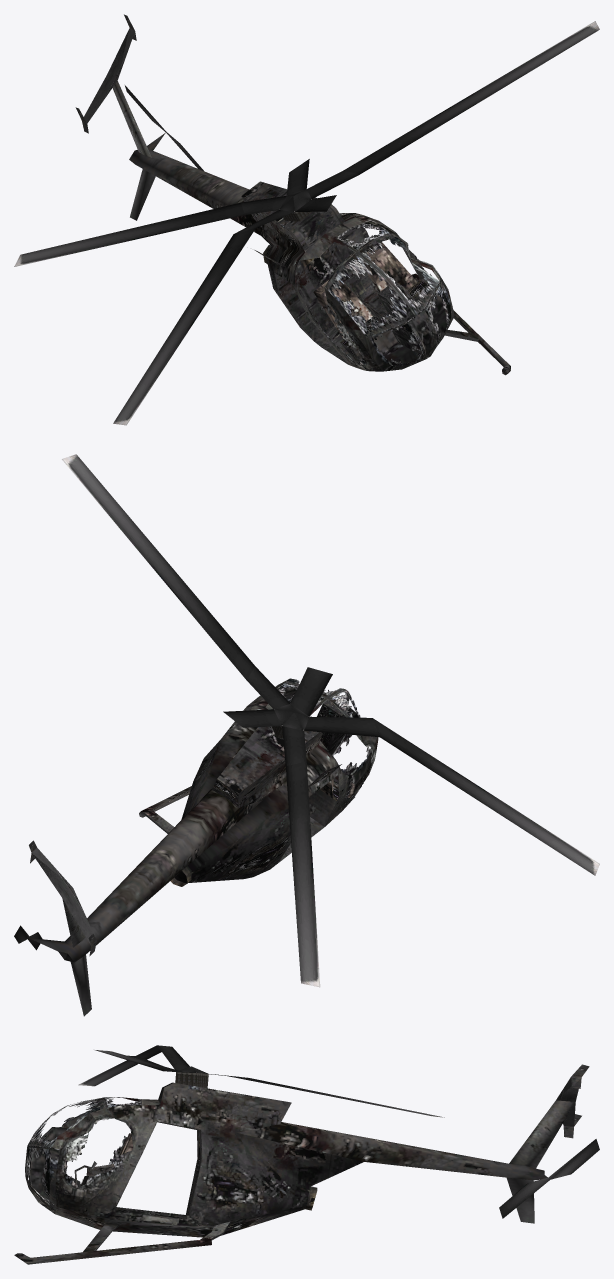
The model's file is FAH6x.glb.
3 views of the same model, one above another, from view 1: azimuth 30°, elevation 25°; view 2: azimuth 150°, elevation 25°; view 3: azimuth 270°, elevation 25° (orthographic). The views are drawn at different scales.
Parts seen in each view (by area): view 1: _FAH6x; view 2: _FAH6x; view 3: _FAH6x.
Boxes of the visible parts, left/top/right/bottom form: _FAH6x: left=14, top=14, right=599, bottom=425; _FAH6x: left=14, top=454, right=599, bottom=1016; _FAH6x: left=14, top=1045, right=599, bottom=1264.
Size of the model in its own units: 7.79 by 4.55 by 8.45.
2 materials, 2 textured.
